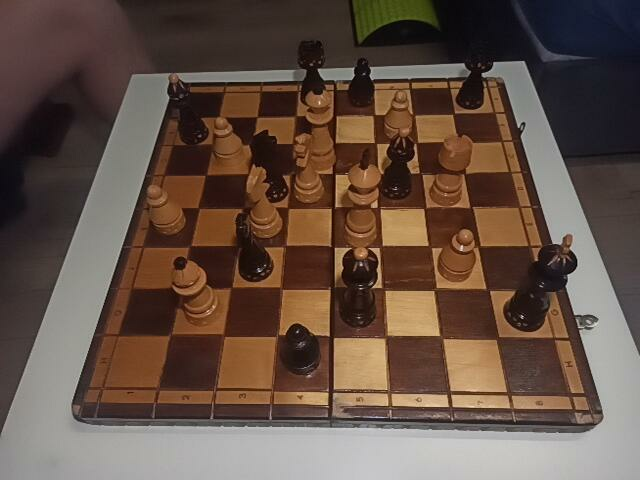B-Bishop: (165, 74, 209, 144), (381, 126, 418, 201)
B-King: (503, 234, 577, 334)
B-Knight: (249, 130, 289, 202), (235, 212, 273, 282)
B-Pawn: (281, 324, 322, 375), (348, 58, 376, 108)
B-Queen: (340, 247, 379, 328)
B-Rook: (456, 39, 494, 110), (296, 40, 330, 107)
W-Bishop: (170, 256, 222, 326)
W-King: (345, 149, 381, 246)
W-Knight: (246, 167, 283, 236), (293, 134, 325, 203)
W-Pawn: (438, 228, 479, 283), (147, 185, 186, 235), (212, 117, 246, 170), (384, 91, 414, 139)
W-Queen: (303, 88, 336, 171)
W-Rook: (430, 135, 473, 207)
